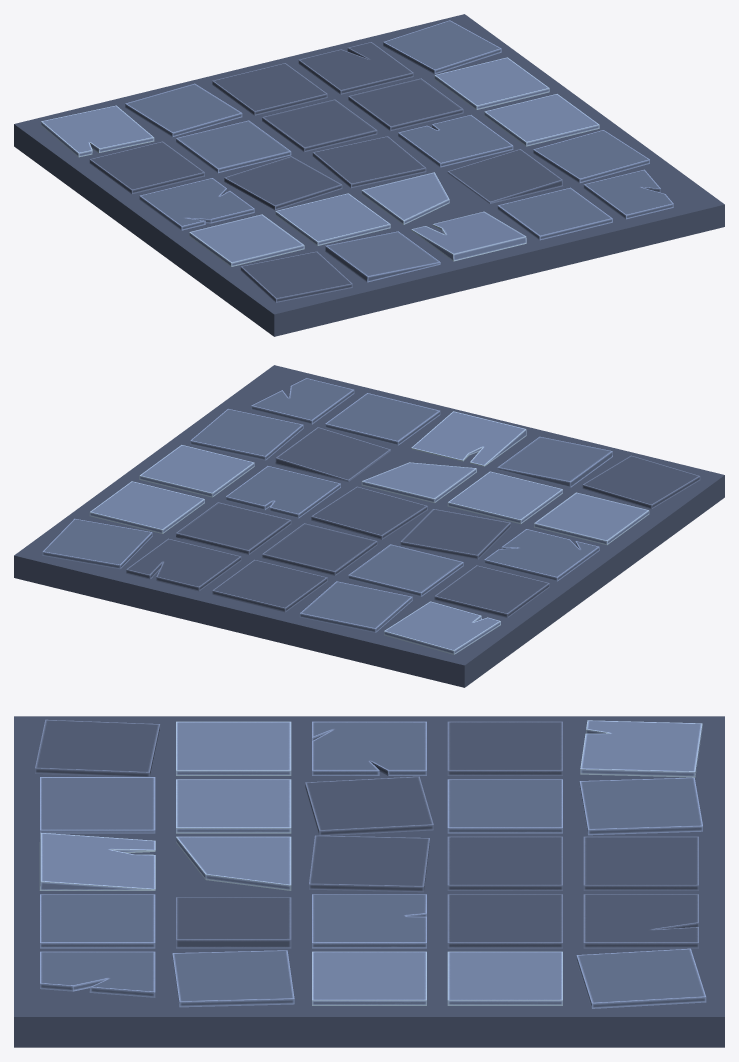
File: tile_4.glb
3 views of the same model, one above another, from view 1: azimuth 30°, elevation 25°; view 2: azimuth 150°, elevation 25°; view 3: azimuth 270°, elevation 25° (orthographic). The views are drawn at different scales.
Visible parts, largest first — view 1: Floor 1; view 2: Floor 1; view 3: Floor 1.
Part boxes in pixels (bbox=[...]): Floor 1: bbox=[14, 14, 724, 336]; Floor 1: bbox=[14, 365, 724, 687]; Floor 1: bbox=[14, 716, 724, 1047].
Size of the model in its own units: 2 by 0.1246 by 2.
1 material, 1 textured.
